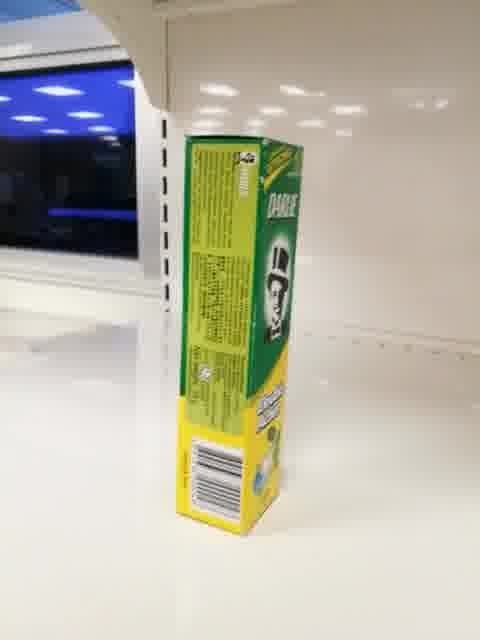toothpaste: (176, 135, 304, 539)
